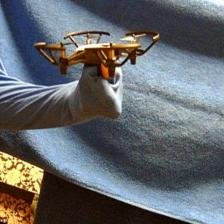drone: (34, 29, 162, 80)
